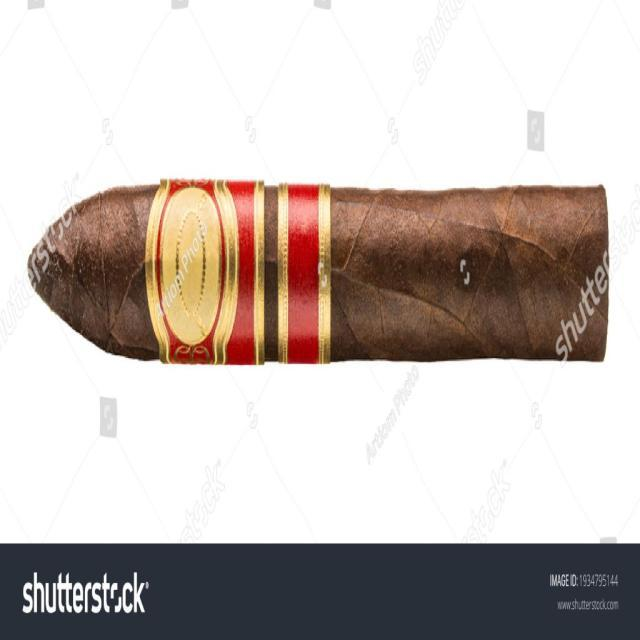smoking: (26, 177, 612, 369)
